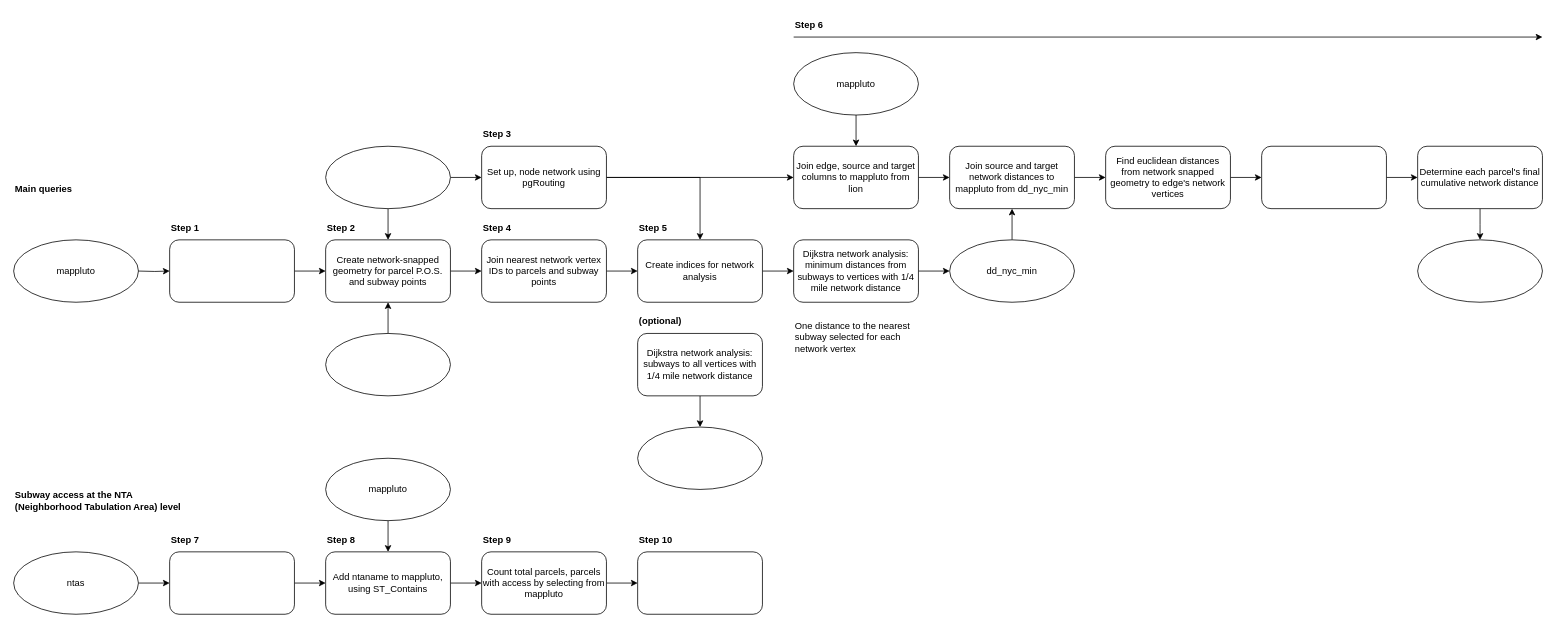
Image size: 1562x628. Some labels were removed from this diagram. The shapes that lost their labels are listed below. From the top down, each one's box as (x1, y1, x2, y2) in pixels, then its label:
(325, 145, 450, 209): lion
(1261, 145, 1386, 209): Calculate cumulative distances for each parcel's source and target vertices
(169, 239, 294, 302): Create P.O.S. geometry
(1417, 239, 1542, 302): access
(325, 333, 450, 396): subway_ee
(637, 426, 762, 489): dd_nyc
(169, 551, 294, 614): Create columns for total parcels, parcels with access and % parcels with access
(637, 551, 762, 614): Calculate % parcels with access
